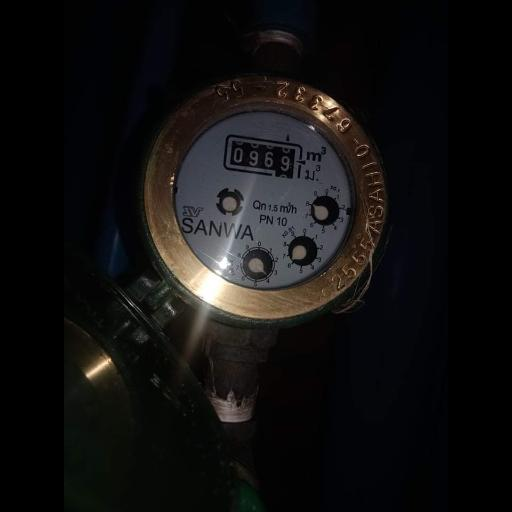0: (230, 141, 247, 167)
6: (261, 145, 278, 170)
9: (277, 147, 295, 178), (246, 143, 263, 168)
border_water_meter_number: (222, 134, 308, 181)
